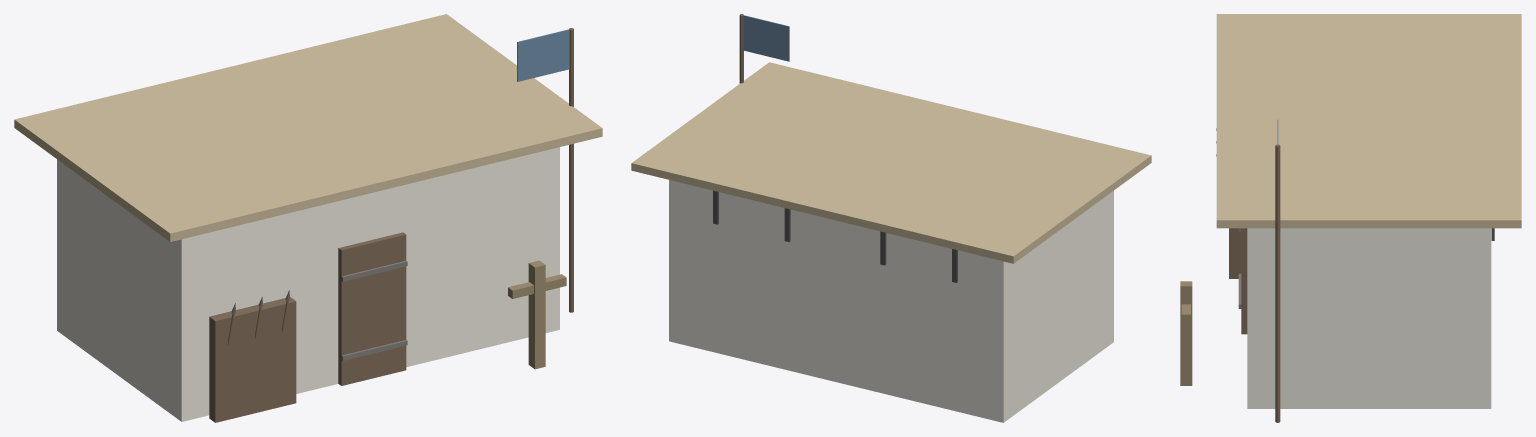
File: Barracks_Steppe.fbx
The picture shows the model from 3 angles, left to right: view 1: azimuth 30°, elevation 25°; view 2: azimuth 150°, elevation 25°; view 3: azimuth 270°, elevation 25°; orthographic projection. The views are drawn at different scales.
Visible parts, largest first — view 1: Barracks_Steppe_Mesh; view 2: Barracks_Steppe_Mesh; view 3: Barracks_Steppe_Mesh.
Boxes of the visible parts, x1,y1,x2,y2 form: Barracks_Steppe_Mesh: [14, 14, 602, 422]; Barracks_Steppe_Mesh: [631, 14, 1151, 422]; Barracks_Steppe_Mesh: [1180, 14, 1521, 422].
Bounding box in the file's own units: 8.04 × 5 × 5.6.
